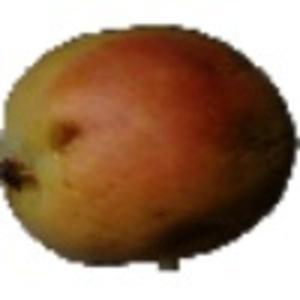mamão: (7, 18, 300, 259)
